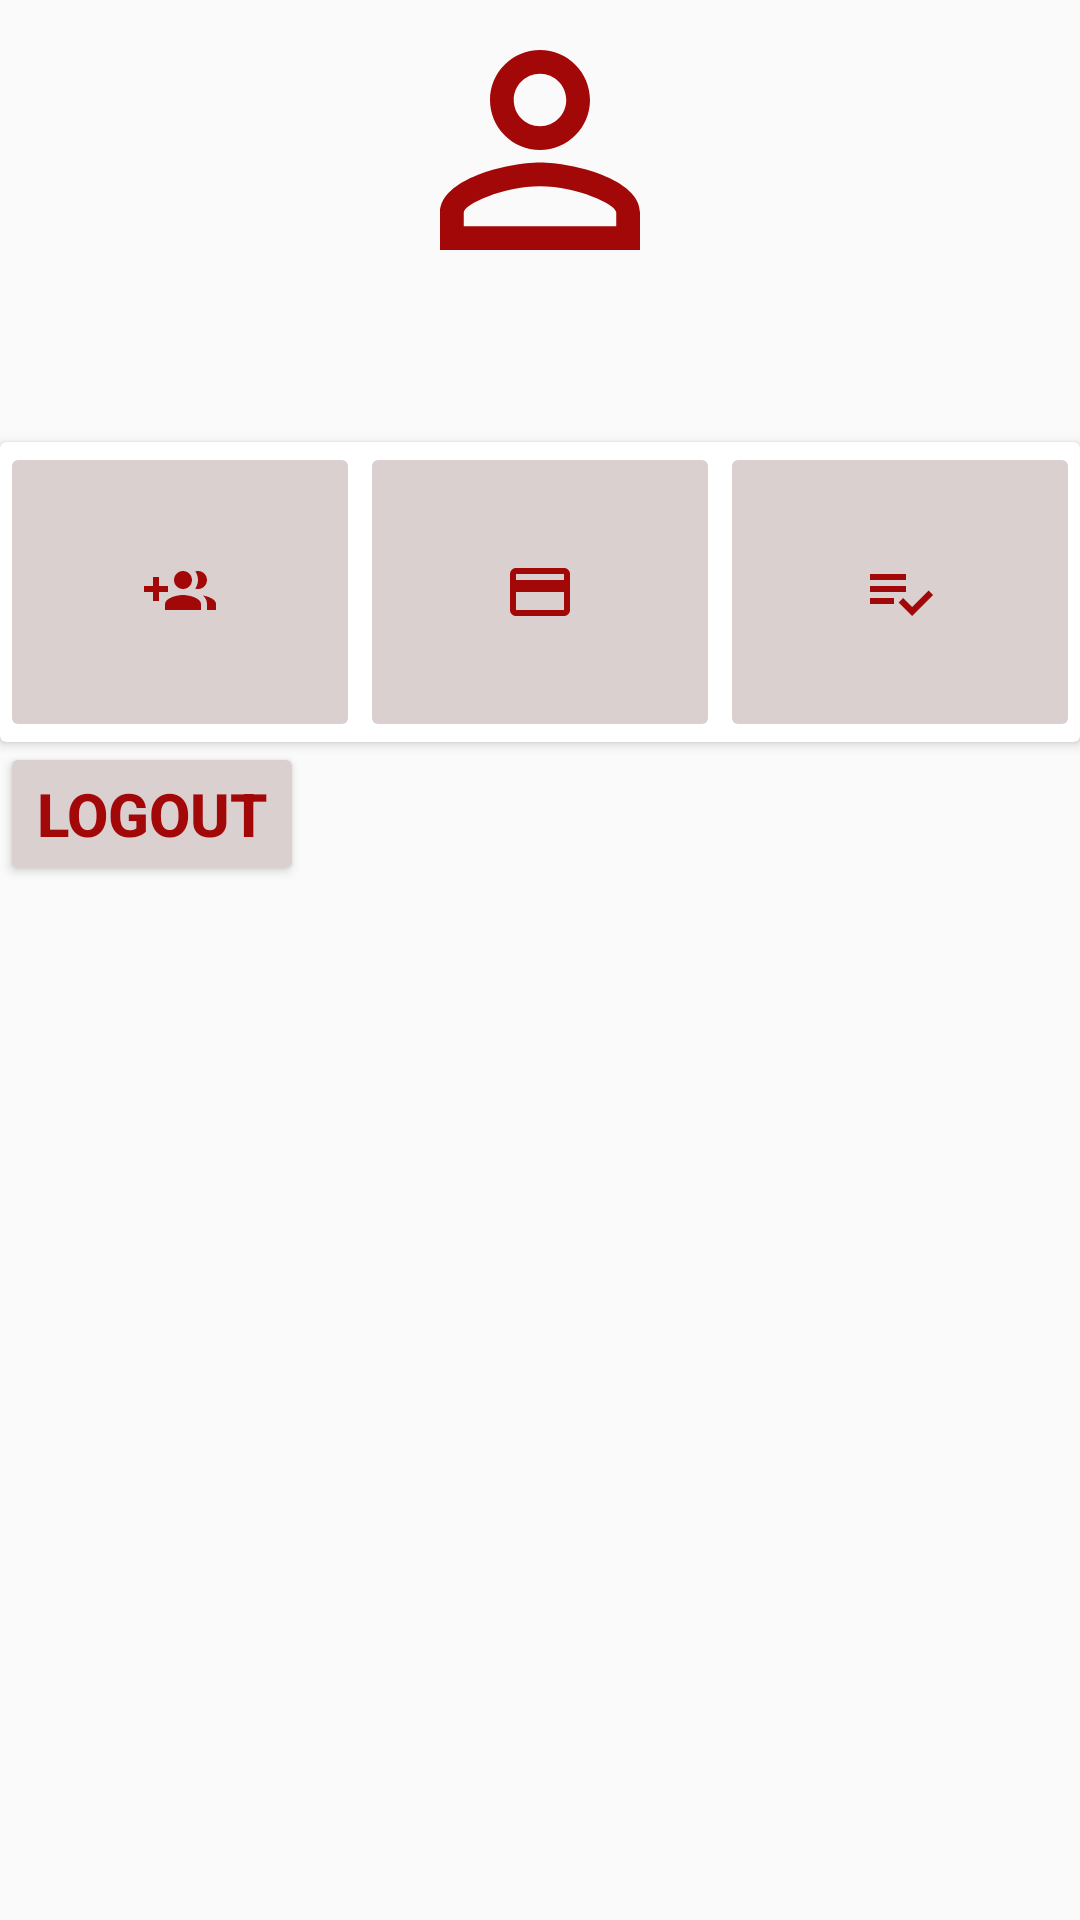

Icons on this 1080px x 1920px Android screen, each with the point to tap as [x,y]:
creatgr: [174,583]
makemadetory: [906,583]
makept: [540,592]
perm identity: [540,150]
